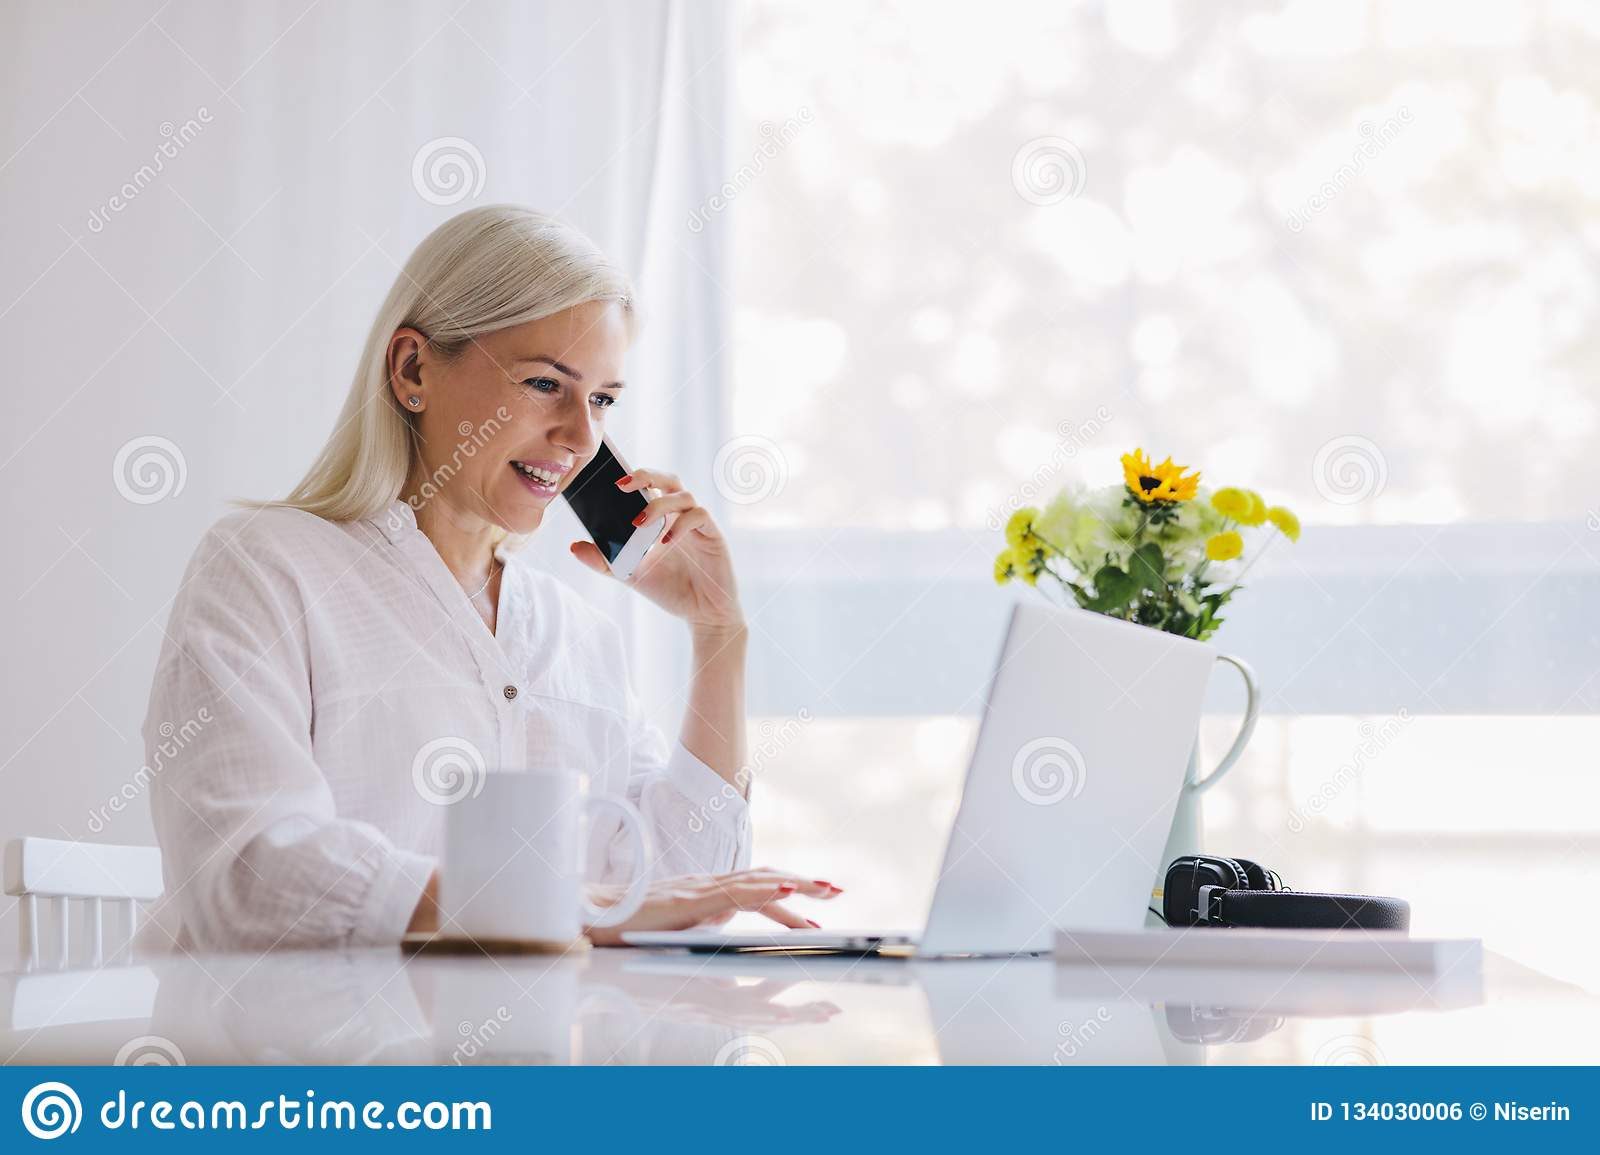phone: (565, 432, 667, 586)
talk: (477, 342, 753, 664)
